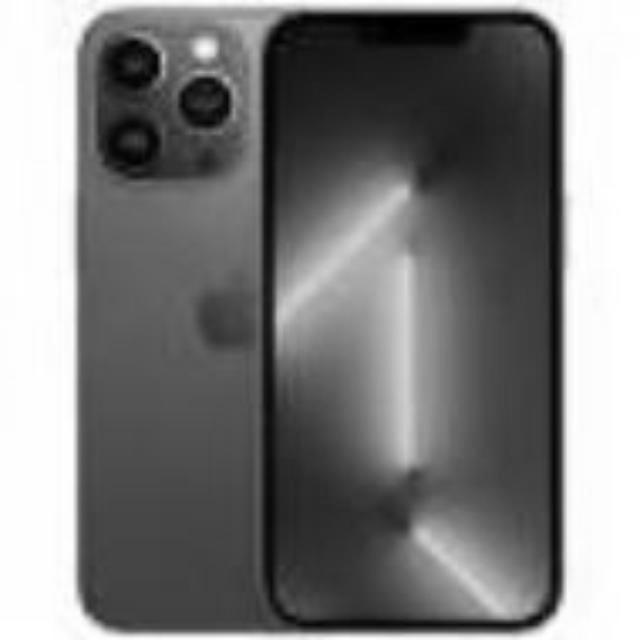fake: (264, 8, 574, 626), (65, 1, 278, 623)
